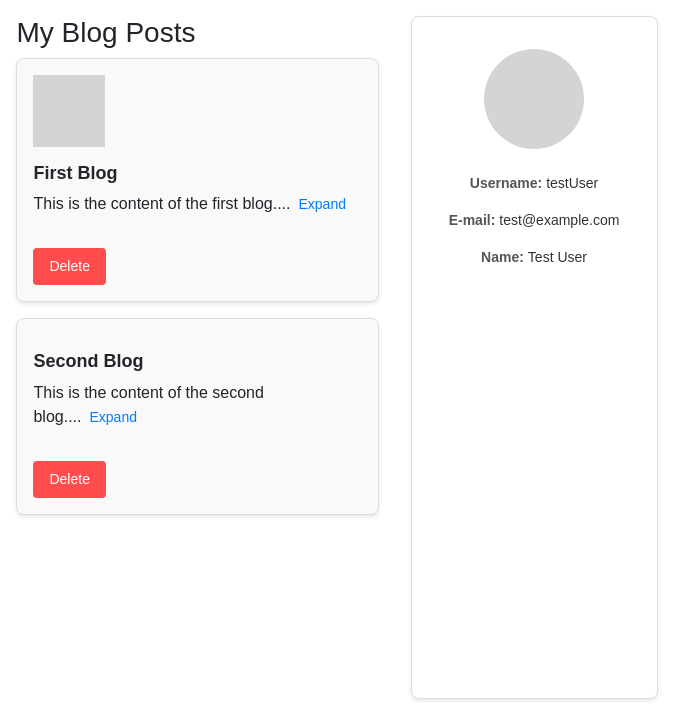
Profile Component - Blogs Section › deletes a blog post
Check: the heading "First Blog" is shown, box [34,163,118,183]
Click the 1st button "Delete" at coordinates (70, 267), box [34,248,106,285]
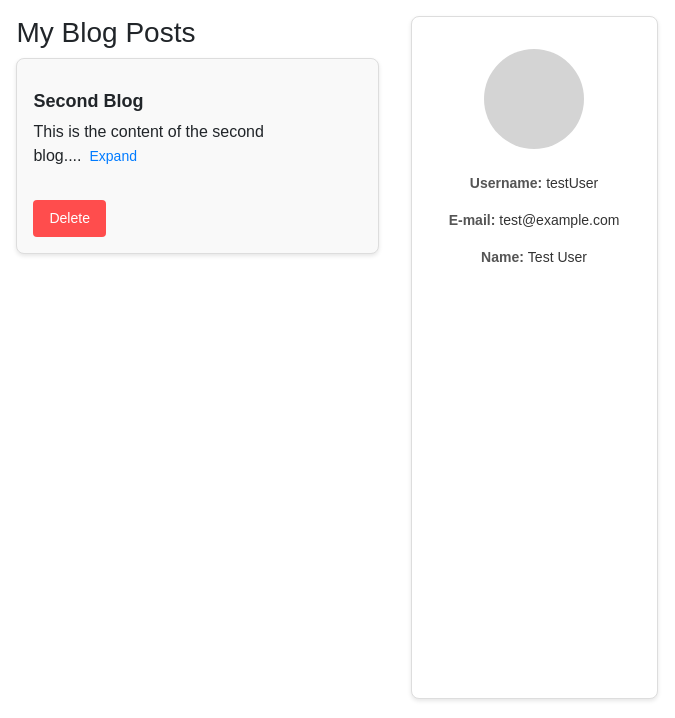
Check: the heading "First Blog" is gone
